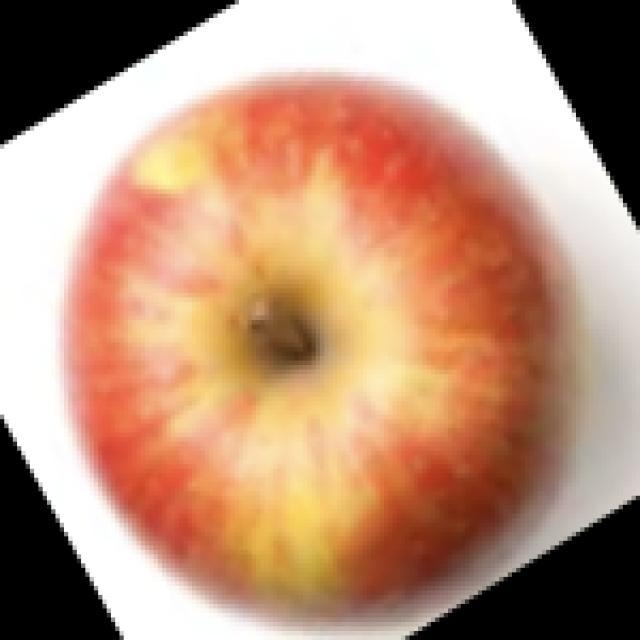Fresh Apple: (90, 70, 582, 640)
